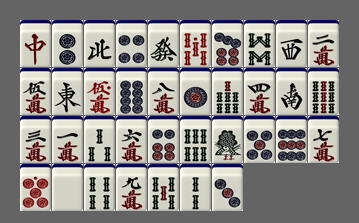0m: (84, 68, 115, 115)
0p: (20, 164, 51, 211)
0s: (180, 20, 211, 67)
1m: (52, 116, 83, 163)
1p: (180, 68, 211, 115)
1s: (212, 116, 243, 163)
1z: (52, 68, 83, 115)
2m: (308, 20, 339, 67)
2p: (52, 20, 83, 67)
2s: (180, 164, 211, 211)
2z: (276, 68, 307, 115)
3m: (20, 116, 51, 163)
3p: (212, 164, 243, 211)
3s: (84, 116, 115, 163)
3z: (276, 20, 307, 67)
4m: (244, 68, 275, 115)
4p: (116, 20, 147, 67)
4s: (84, 164, 115, 211)
4z: (84, 20, 115, 67)
5m: (20, 68, 51, 115)
5p: (244, 116, 275, 163)
5s: (148, 164, 179, 211)
5z: (52, 164, 83, 211)
6m: (116, 116, 147, 163)
6p: (148, 116, 179, 163)
6s: (180, 116, 211, 163)
6z: (148, 20, 179, 67)
7m: (308, 116, 339, 163)
7p: (212, 20, 243, 67)
7s: (212, 68, 243, 115)
7z: (20, 20, 51, 67)
8m: (148, 68, 179, 115)
8p: (116, 68, 147, 115)
8s: (244, 20, 275, 67)
9m: (116, 164, 147, 211)
9p: (276, 116, 307, 163)
9s: (308, 68, 339, 115)
